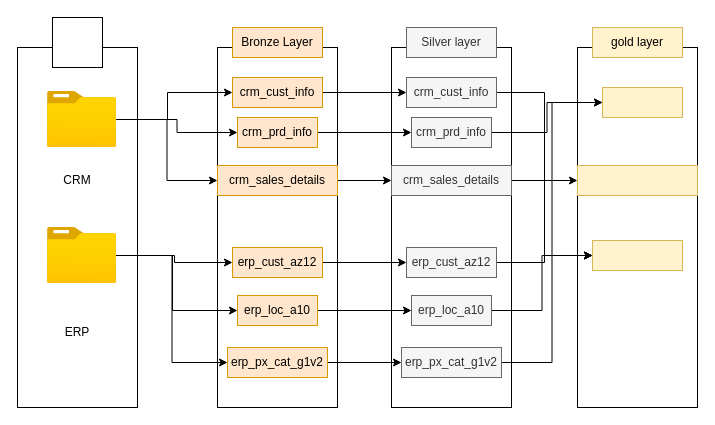
Some shapes in this 715 by 425 pixel diagram are drawn without their labels. Here are the shapes that lost their labels. From the top down, the box of each, then its label:
(52, 16, 102, 68): sources
(602, 86, 682, 118): dim_products
(576, 164, 698, 196): fac_sales
(592, 240, 682, 270): dim_customers
